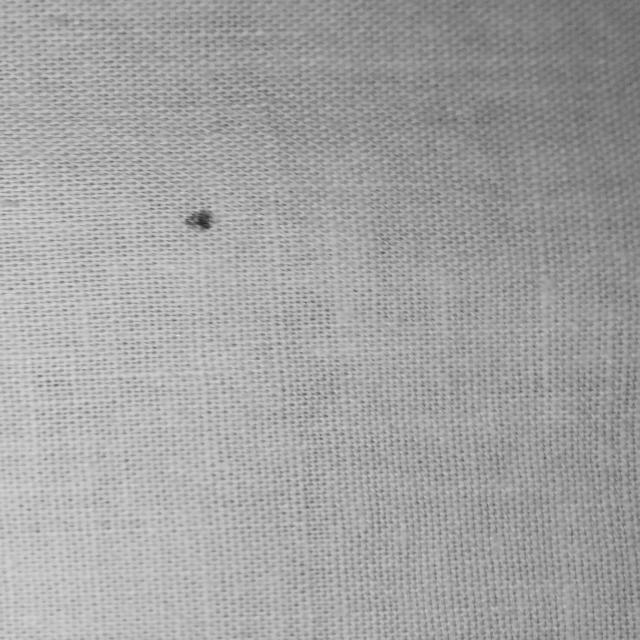Stain: (184, 209, 212, 229)
